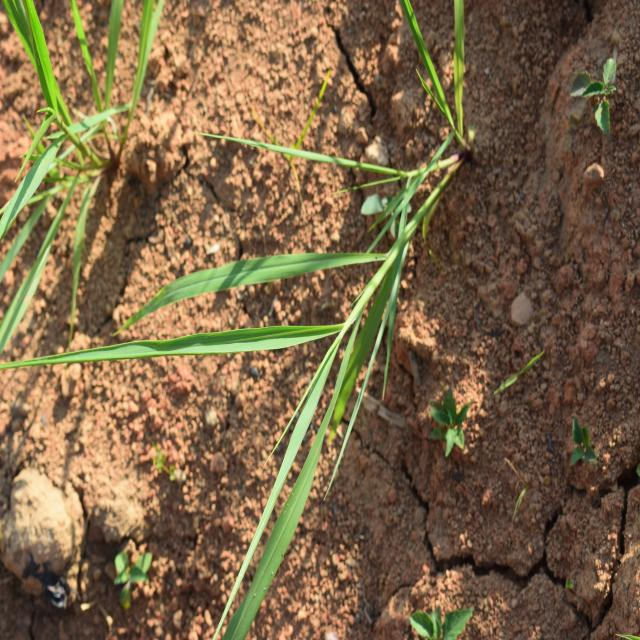green_foxtail: (116, 122, 393, 569), (0, 13, 164, 236)
